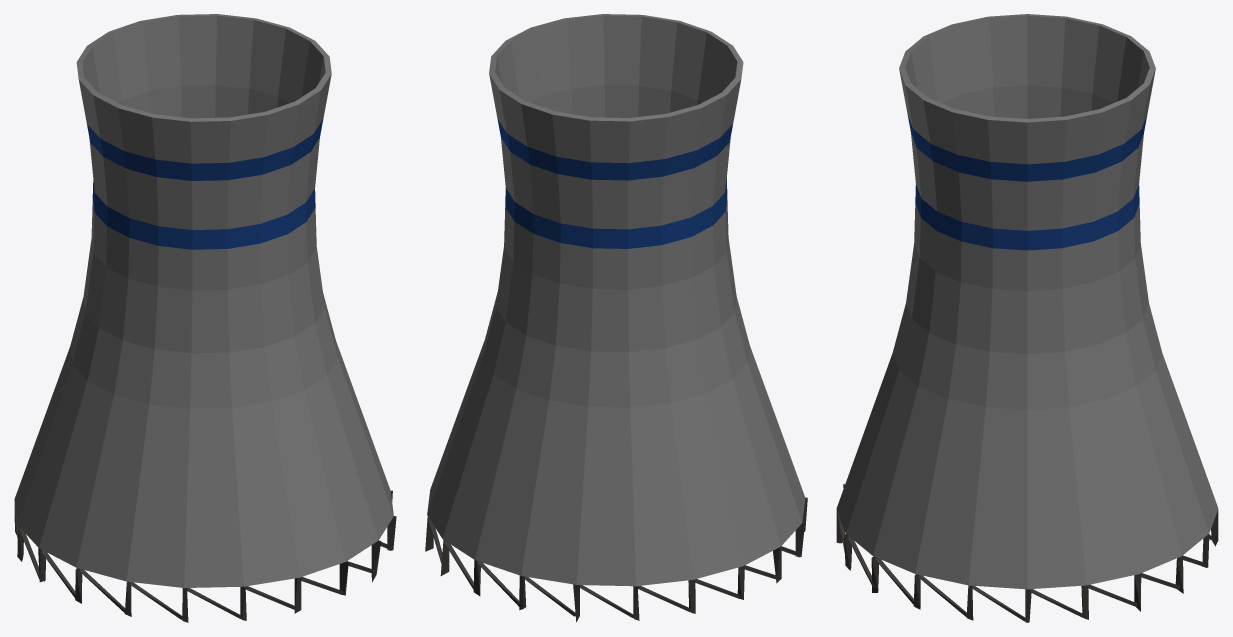
File: SM_Factory_Cooling_tower.glb
3 views of the same model, side by side, from view 1: azimuth 30°, elevation 25°; view 2: azimuth 150°, elevation 25°; view 3: azimuth 270°, elevation 25° (orthographic).
Parts seen in each view (by area): view 1: SM_Factory_Cooling_tower; view 2: SM_Factory_Cooling_tower; view 3: SM_Factory_Cooling_tower.
Boxes of the visible parts, bbox=[...] form: SM_Factory_Cooling_tower: bbox=[14, 14, 396, 622]; SM_Factory_Cooling_tower: bbox=[425, 14, 807, 622]; SM_Factory_Cooling_tower: bbox=[836, 14, 1218, 622].
Size of the model in its own units: 18.4 by 25.6 by 18.4.
Materials: 1 (1 with a texture image).
